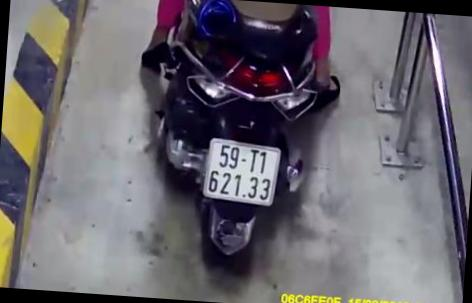LP: (203, 136, 281, 208)
